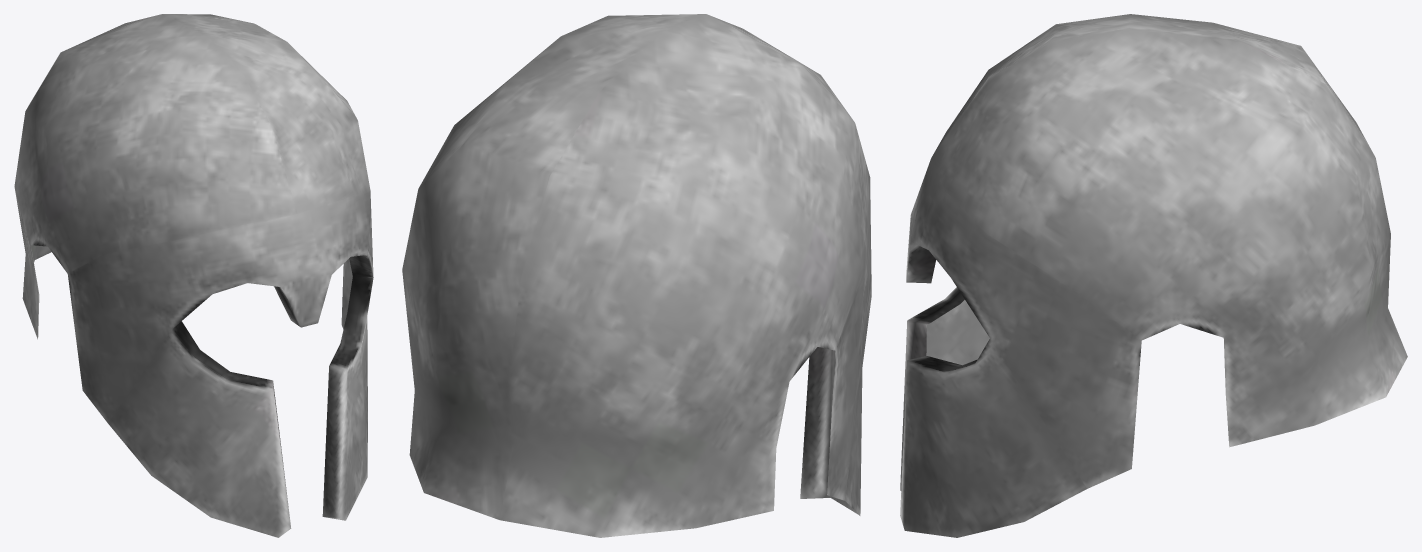
File: helmet-mediuminfantry.glb
3 views of the same model, side by side, from view 1: azimuth 30°, elevation 25°; view 2: azimuth 150°, elevation 25°; view 3: azimuth 270°, elevation 25° (orthographic). The views are drawn at different scales.
Bounding box in the file's own units: 0.232 × 0.3219 × 0.3082.
1 material, 1 textured.
